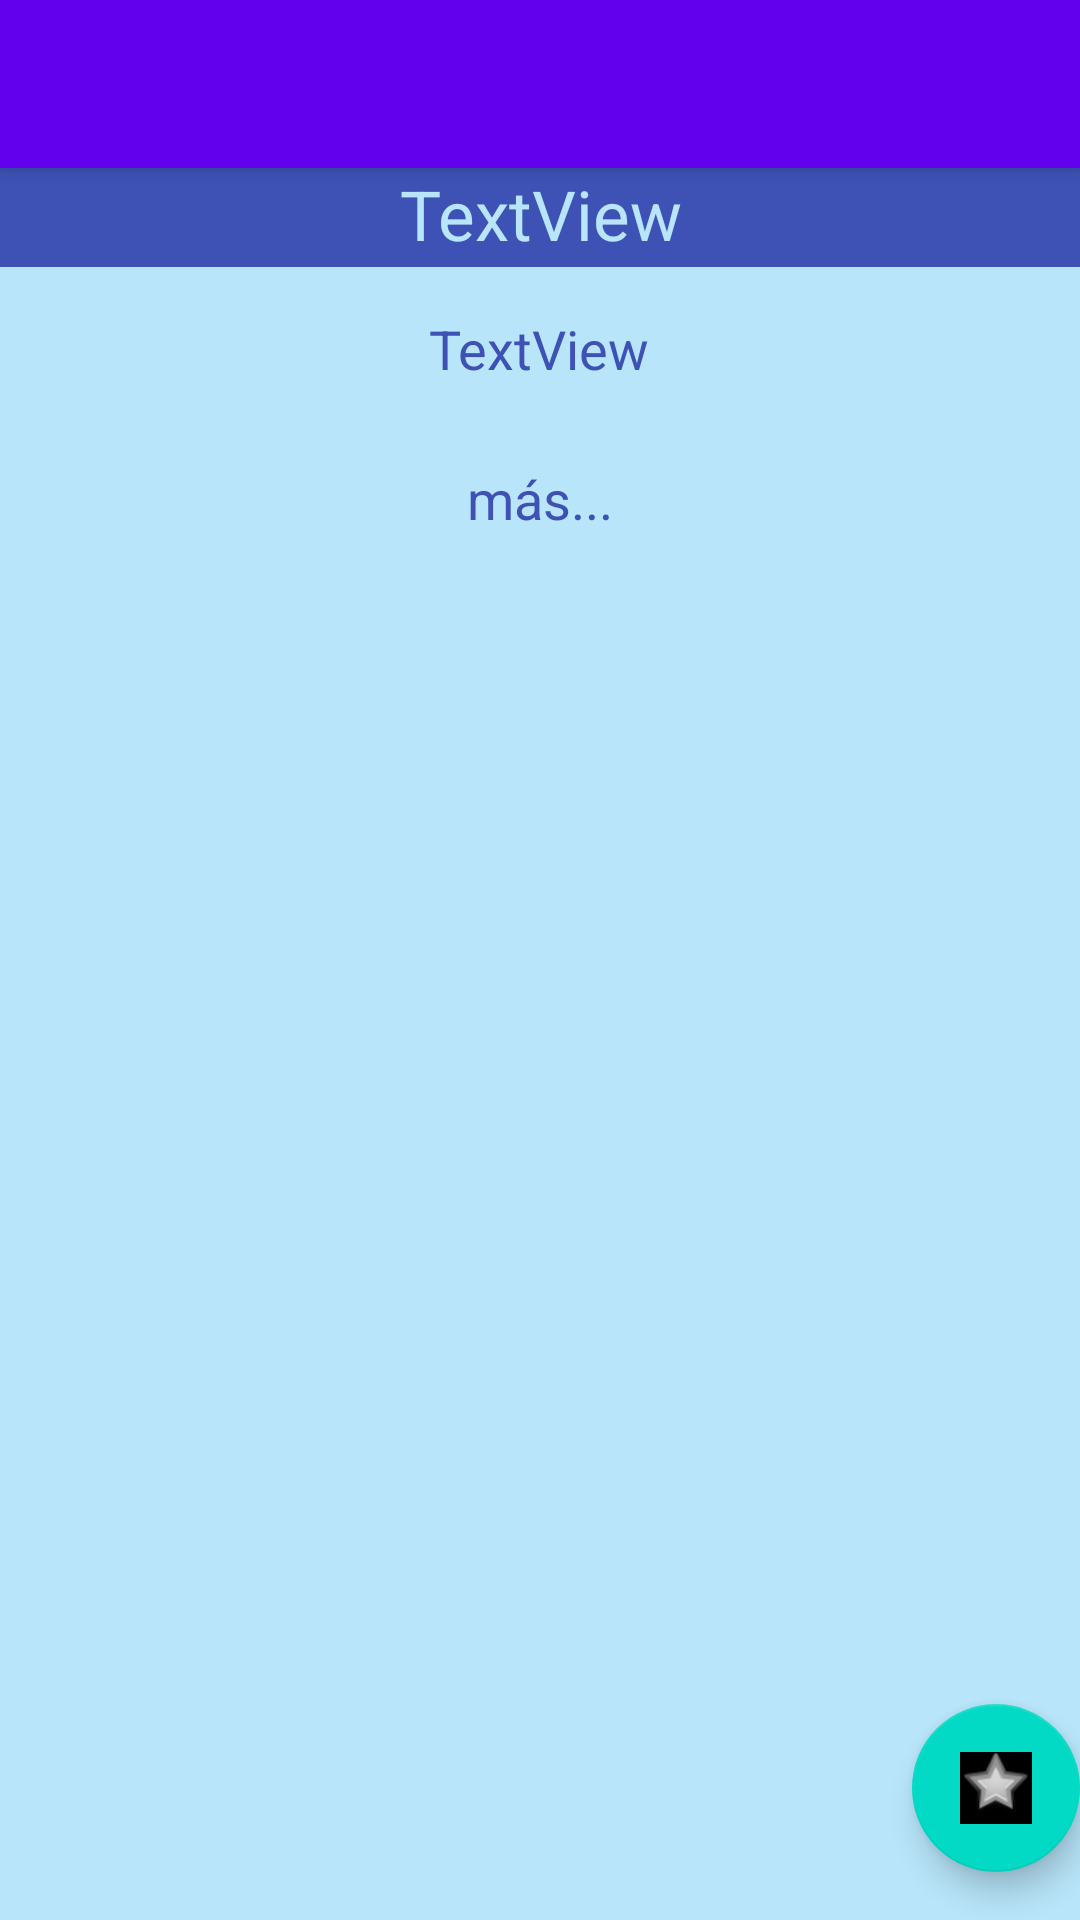

Locate icon controls on the screen. Image size 1080*1920, boxes as bbox=[x1, y1, x2, y2].
star off: bbox=[912, 1704, 1080, 1872]
